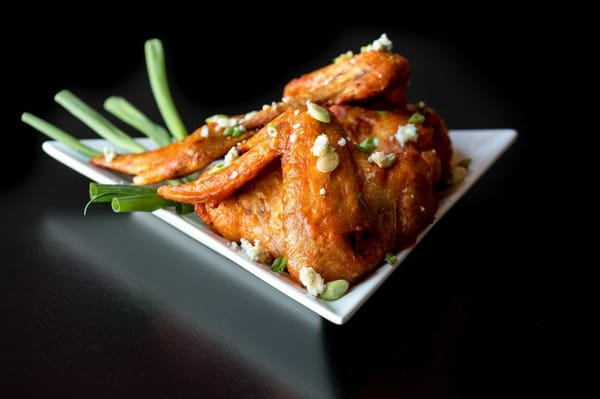soup: (66, 47, 462, 302)
sushi: (103, 43, 520, 327)
